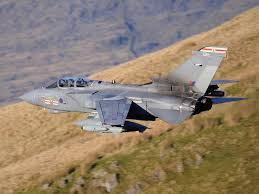fighter: (17, 42, 250, 138)
